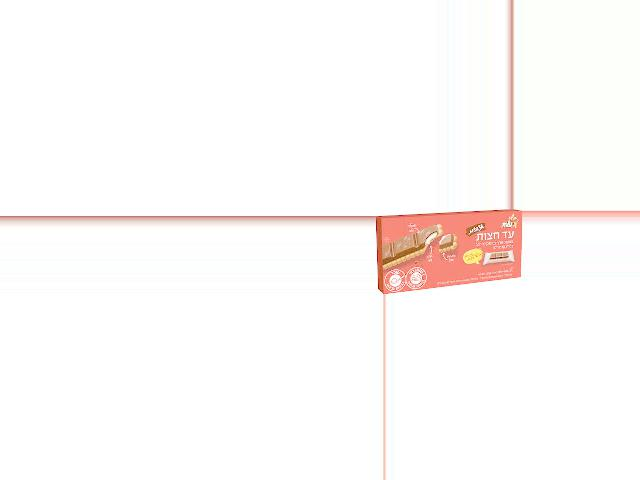chocolate: (377, 215, 523, 285)
